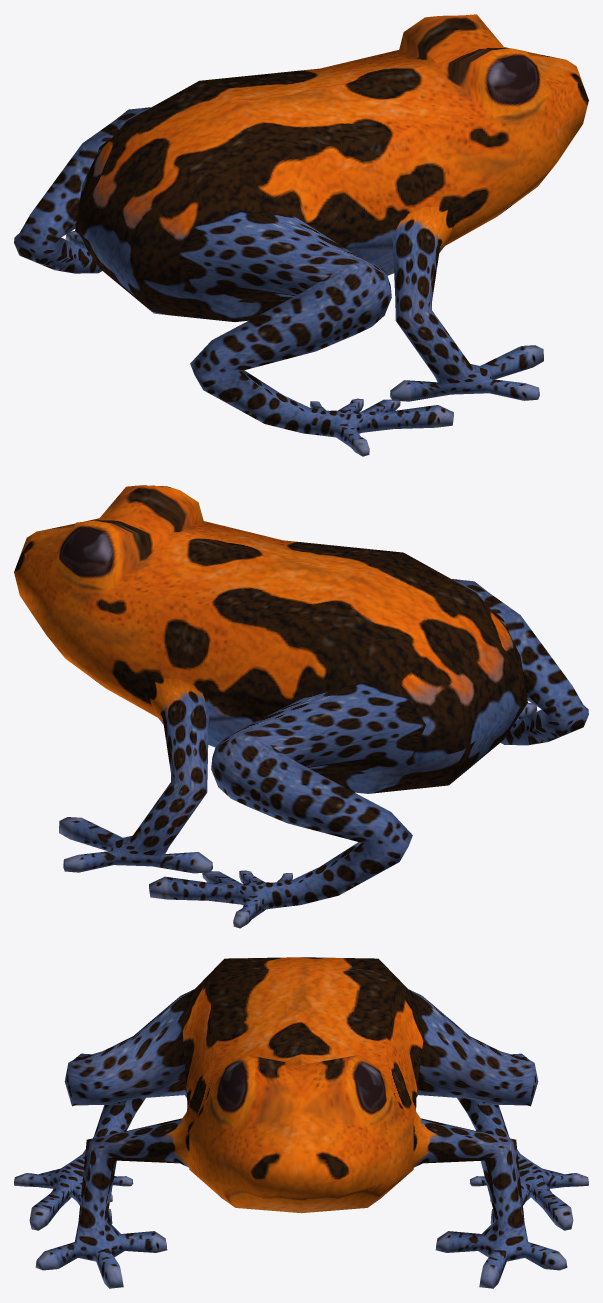
Rendered from poisonDart_Frog.FBX.
The picture shows the model from 3 angles, top to bottom: view 1: azimuth 30°, elevation 25°; view 2: azimuth 150°, elevation 25°; view 3: azimuth 270°, elevation 25°; orthographic projection. The views are drawn at different scales.
Parts seen in each view (by area): view 1: poisonDart_Frog; view 2: poisonDart_Frog; view 3: poisonDart_Frog.
Part boxes in pixels (x1,y1,x2,y2): poisonDart_Frog: (14,14,588,456); poisonDart_Frog: (14,485,588,928); poisonDart_Frog: (14,957,588,1288).
Bounding box in the file's own units: 12.44 × 6.35 × 13.48.
